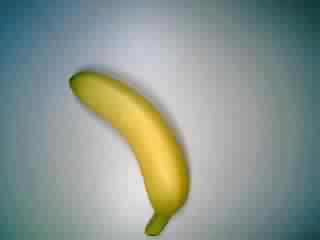banana: (64, 68, 192, 236)
